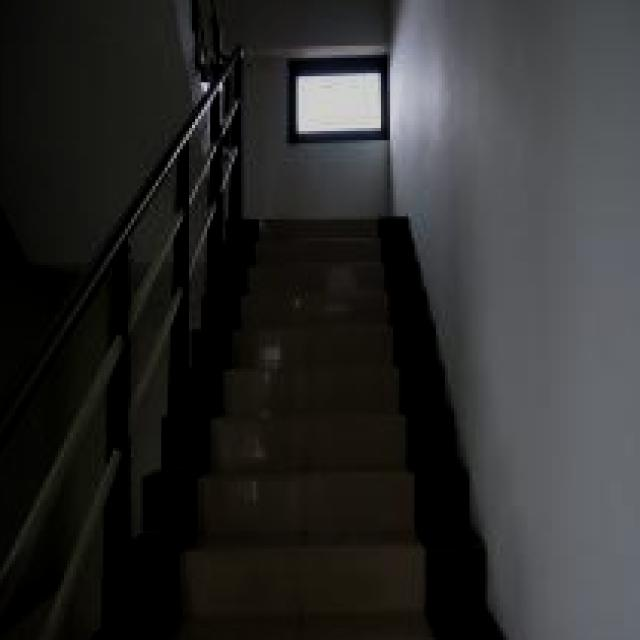upstair: (214, 281, 437, 640)
